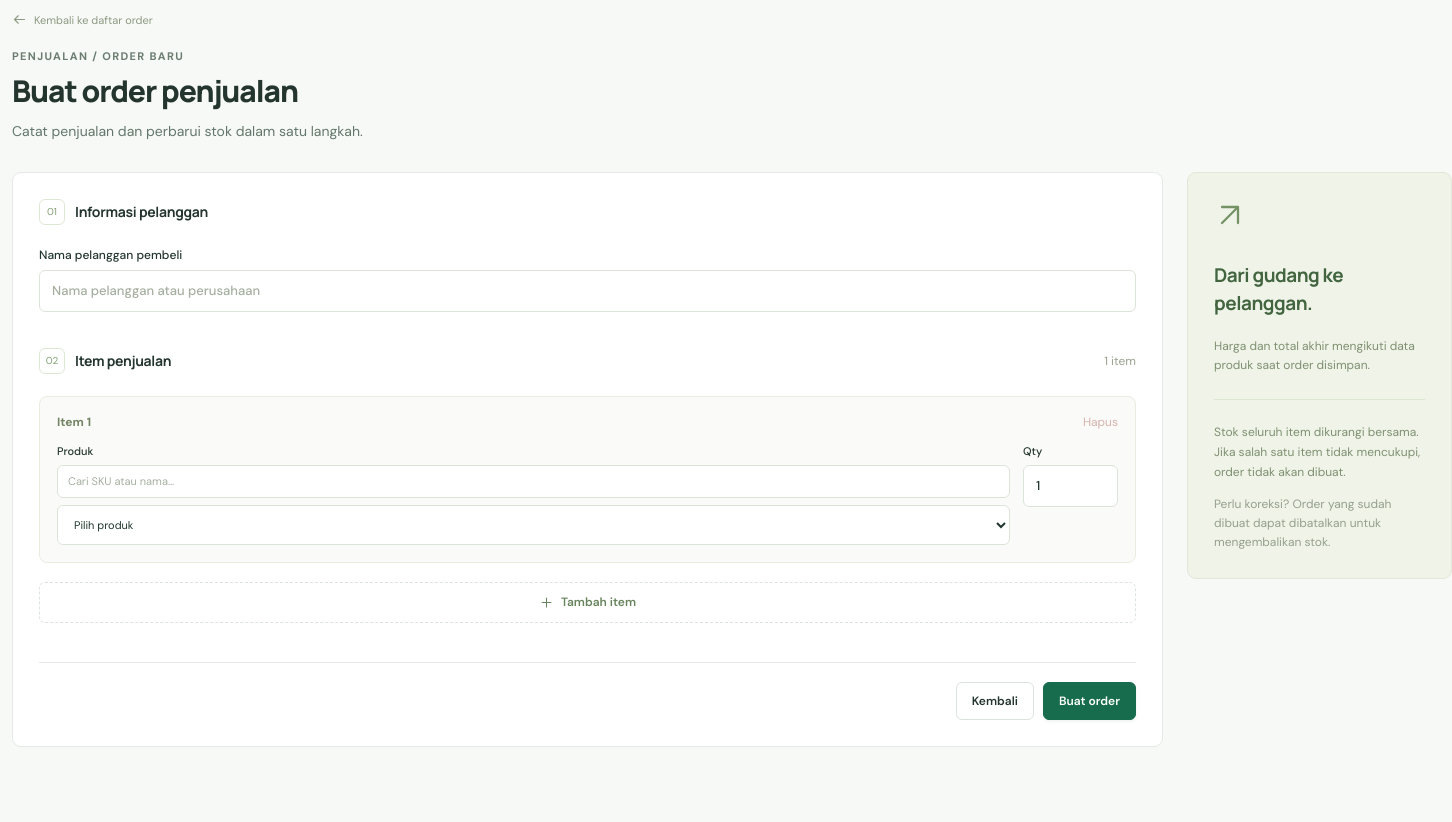
Test: shows required customer and item validation without submitting an order
Expected: the dropdown named "Produk item 1" is shown, x1=57 y1=505 x2=1010 y2=545
Click the button "Buat order". click: [1089, 701]
box: x1=1043 y1=682 x2=1136 y2=720
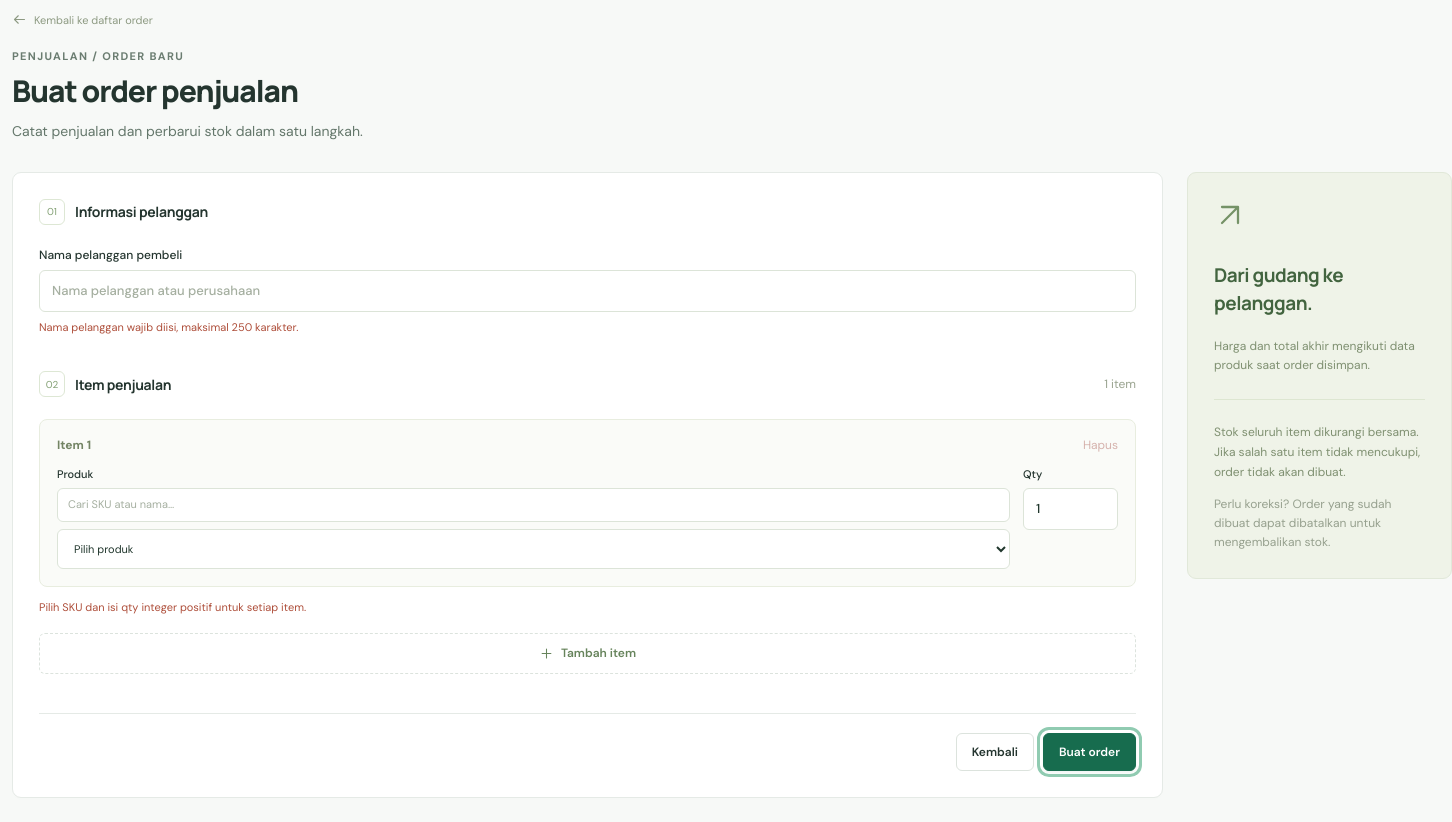
Now the text "Nama pelanggan wajib diisi, maksimal 250 karakter." is shown, box x1=39 y1=320 x2=298 y2=334
Now the text "Pilih SKU dan isi qty integer positif untuk setiap item." is shown, box x1=39 y1=600 x2=306 y2=614
